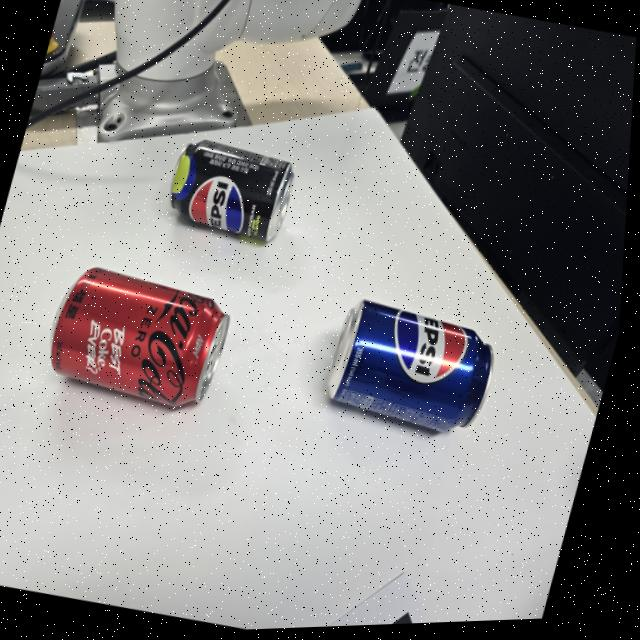can_coke_zero: (50, 267, 229, 406)
can_pepsi: (327, 299, 493, 431)
can_pepsi_zero: (170, 140, 294, 241)
